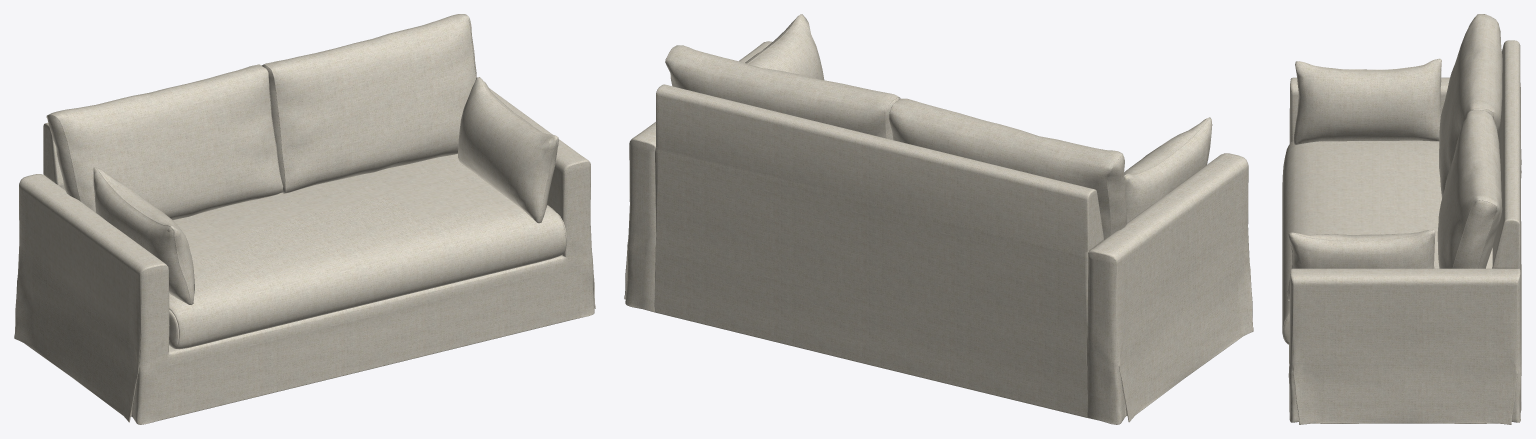
File: hyltarp_sofa_2_osobowa_rozkadana_29489603.glb
The picture shows the model from 3 angles, left to right: view 1: azimuth 30°, elevation 25°; view 2: azimuth 150°, elevation 25°; view 3: azimuth 270°, elevation 25°; orthographic projection. The views are drawn at different scales.
Visible parts, largest first — view 1: hyltarp_sofa_2_osobowa_rozkadana_29489603; view 2: hyltarp_sofa_2_osobowa_rozkadana_29489603; view 3: hyltarp_sofa_2_osobowa_rozkadana_29489603.
Boxes of the visible parts, <box> form: hyltarp_sofa_2_osobowa_rozkadana_29489603: <box>14,14,595,424</box>; hyltarp_sofa_2_osobowa_rozkadana_29489603: <box>624,14,1253,424</box>; hyltarp_sofa_2_osobowa_rozkadana_29489603: <box>1282,14,1521,424</box>.
Size of the model in its own units: 1.89 by 0.8929 by 0.9091.
Materials: 1 (1 with a texture image).
